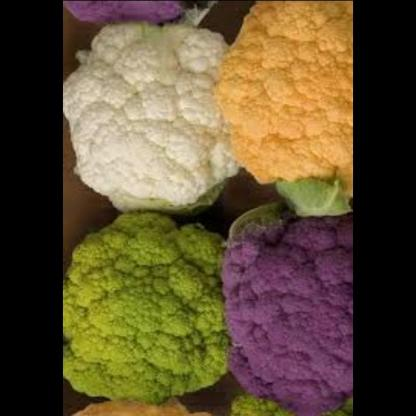cayliflower: (62, 19, 238, 218), (62, 213, 227, 412), (212, 1, 353, 206), (215, 206, 351, 416)
